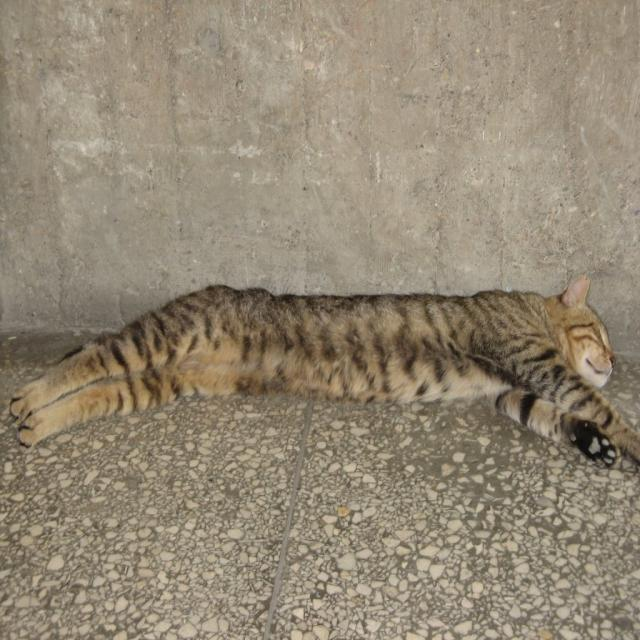Cat: (9, 274, 639, 467)
